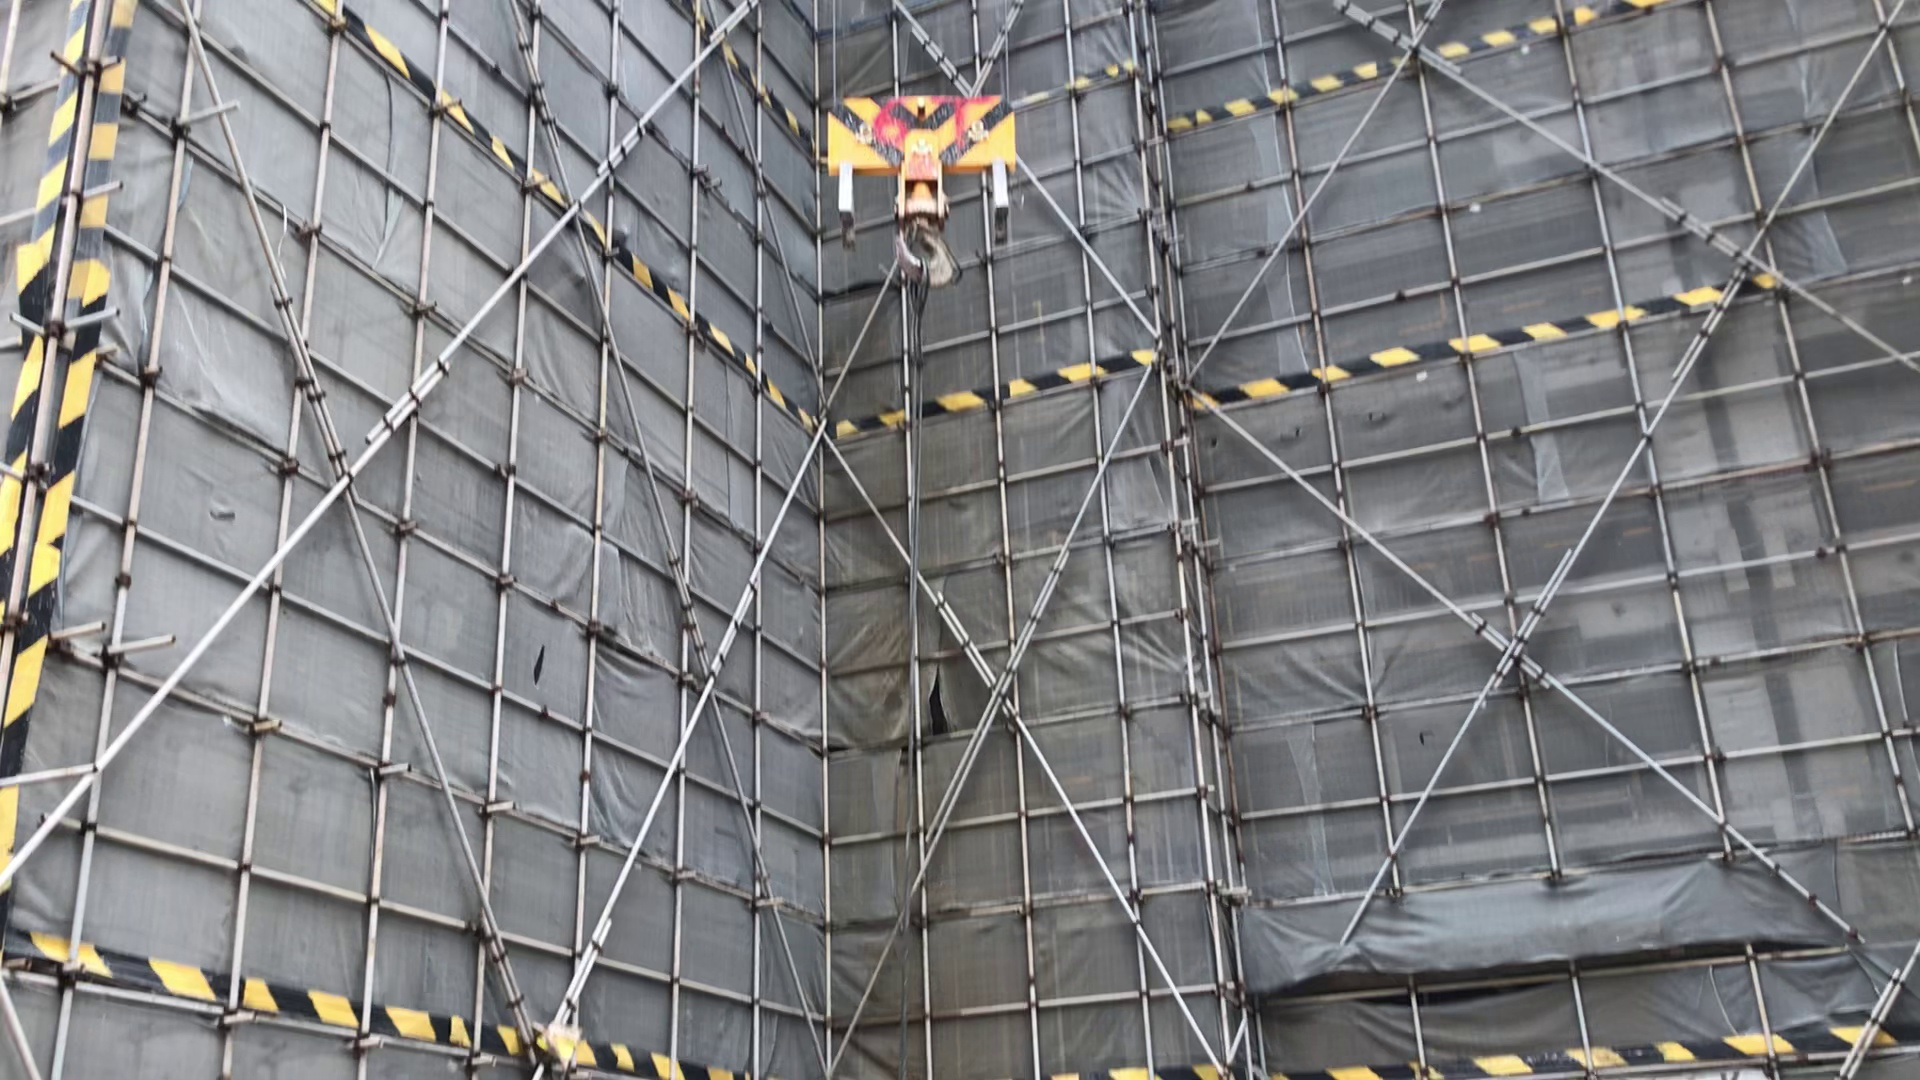hook: (822, 91, 1014, 286)
